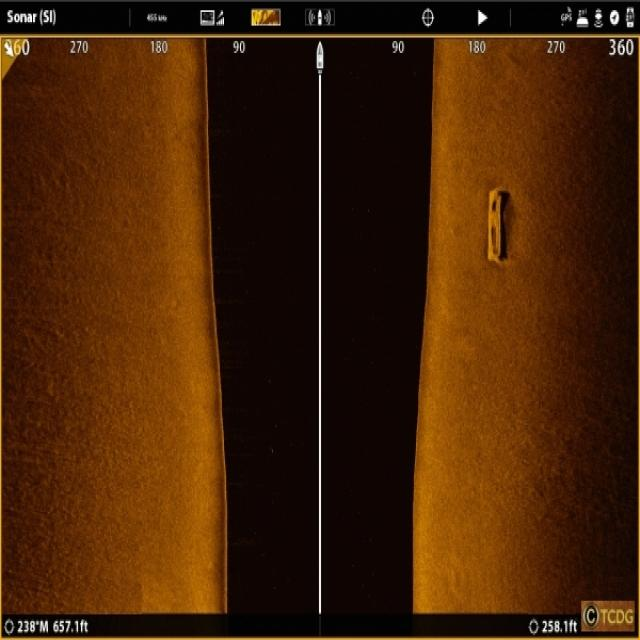ship: (483, 182, 508, 262)
